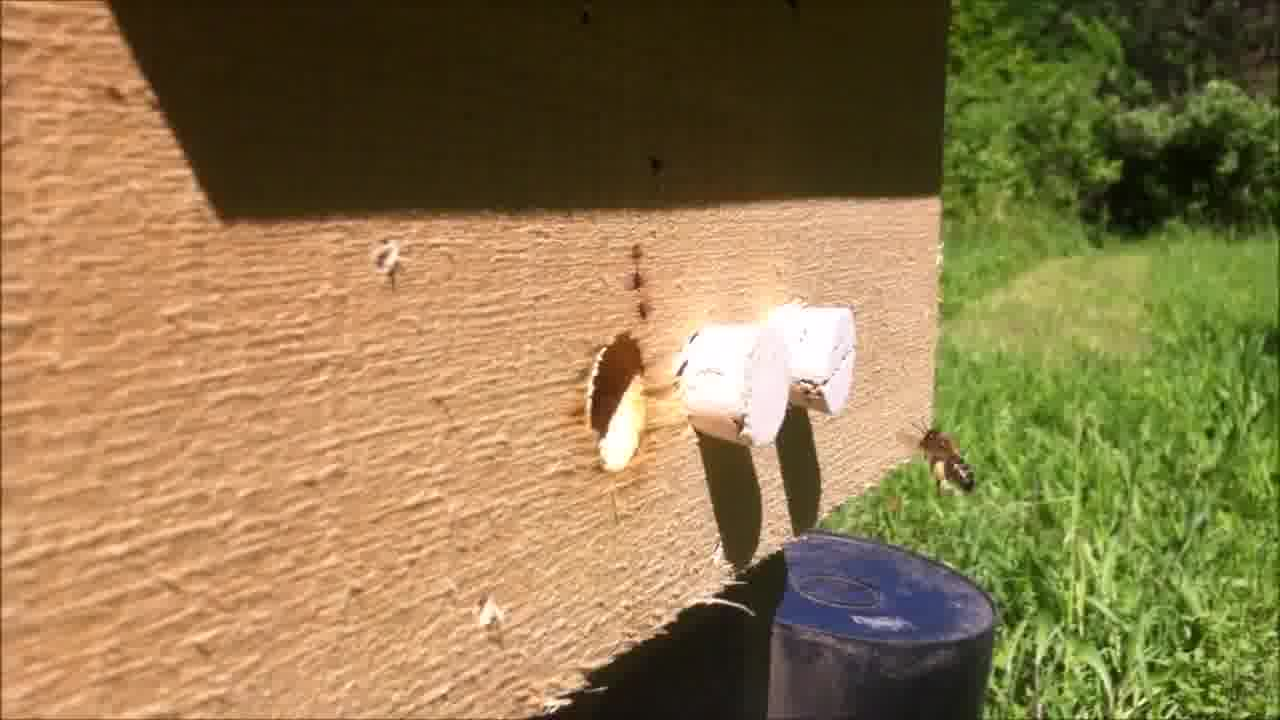pollen: (907, 423, 978, 496)
